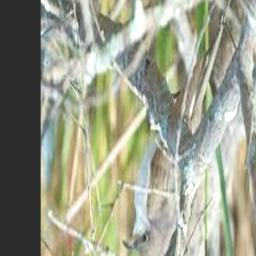Cuckoo: (122, 43, 218, 256)
